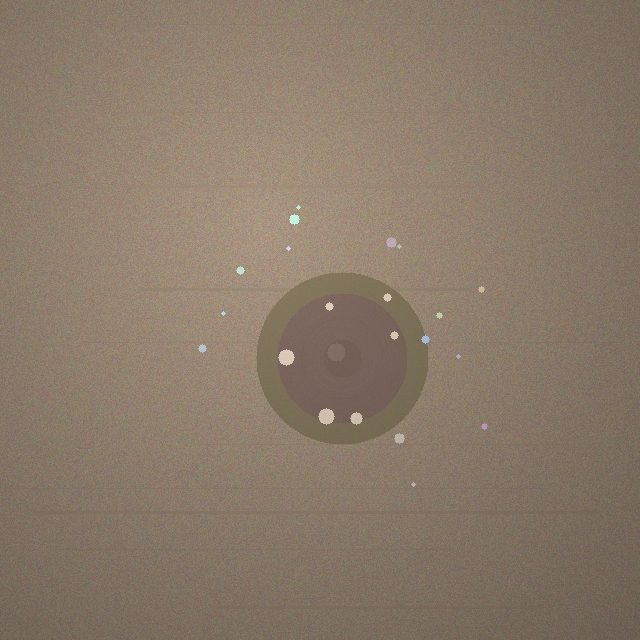overburn: (256, 272, 428, 444)
